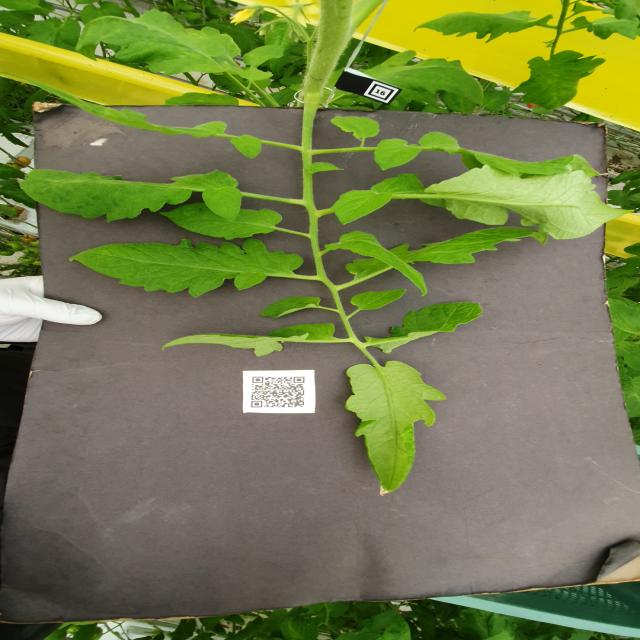Healthy Leaf: (65, 239, 308, 297), (346, 364, 449, 499), (344, 226, 549, 290), (15, 164, 245, 221), (357, 300, 491, 355), (158, 322, 340, 359), (412, 11, 555, 45), (159, 206, 295, 238), (333, 189, 391, 226), (371, 137, 427, 175), (229, 135, 264, 160)
